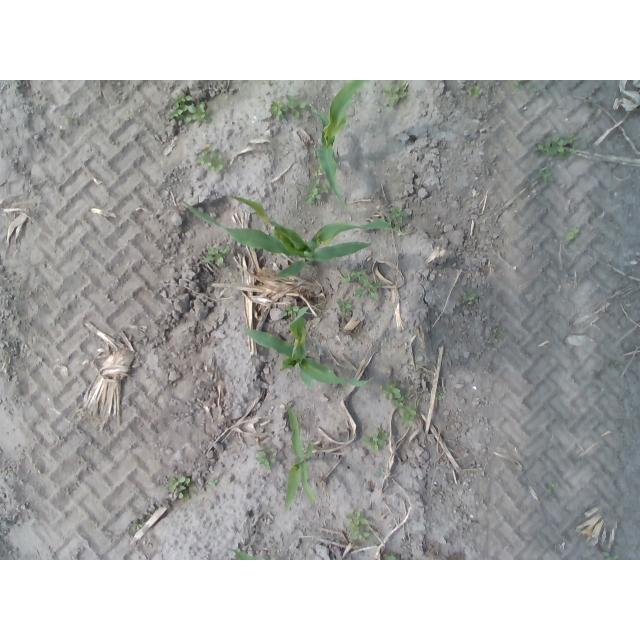Maize: (179, 195, 404, 278), (238, 307, 374, 388), (319, 81, 364, 204), (280, 402, 318, 512), (226, 546, 266, 560)
Weeds: (169, 97, 212, 126), (345, 269, 379, 299), (535, 134, 570, 154), (167, 475, 191, 500), (203, 244, 229, 264), (283, 95, 305, 118), (362, 430, 386, 451), (198, 152, 223, 171), (384, 83, 404, 105), (346, 511, 368, 530), (398, 400, 414, 426), (390, 206, 406, 226), (269, 102, 288, 118), (384, 383, 400, 400), (257, 449, 271, 468), (338, 295, 354, 310), (349, 531, 370, 542), (536, 168, 552, 182), (566, 227, 579, 241), (469, 87, 484, 98), (281, 306, 299, 315), (461, 291, 475, 301), (132, 523, 142, 532), (385, 554, 398, 560), (493, 328, 500, 337), (209, 479, 219, 485), (437, 393, 445, 400), (550, 481, 559, 487), (611, 361, 618, 368)
